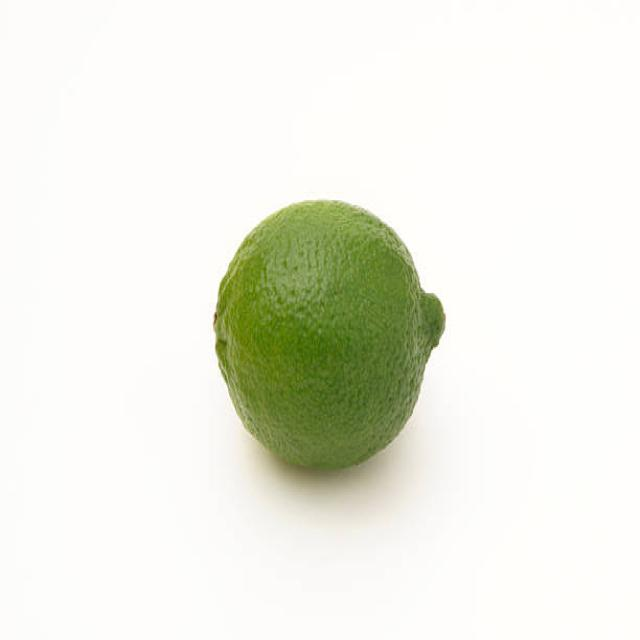Lemon: (214, 193, 445, 473)
